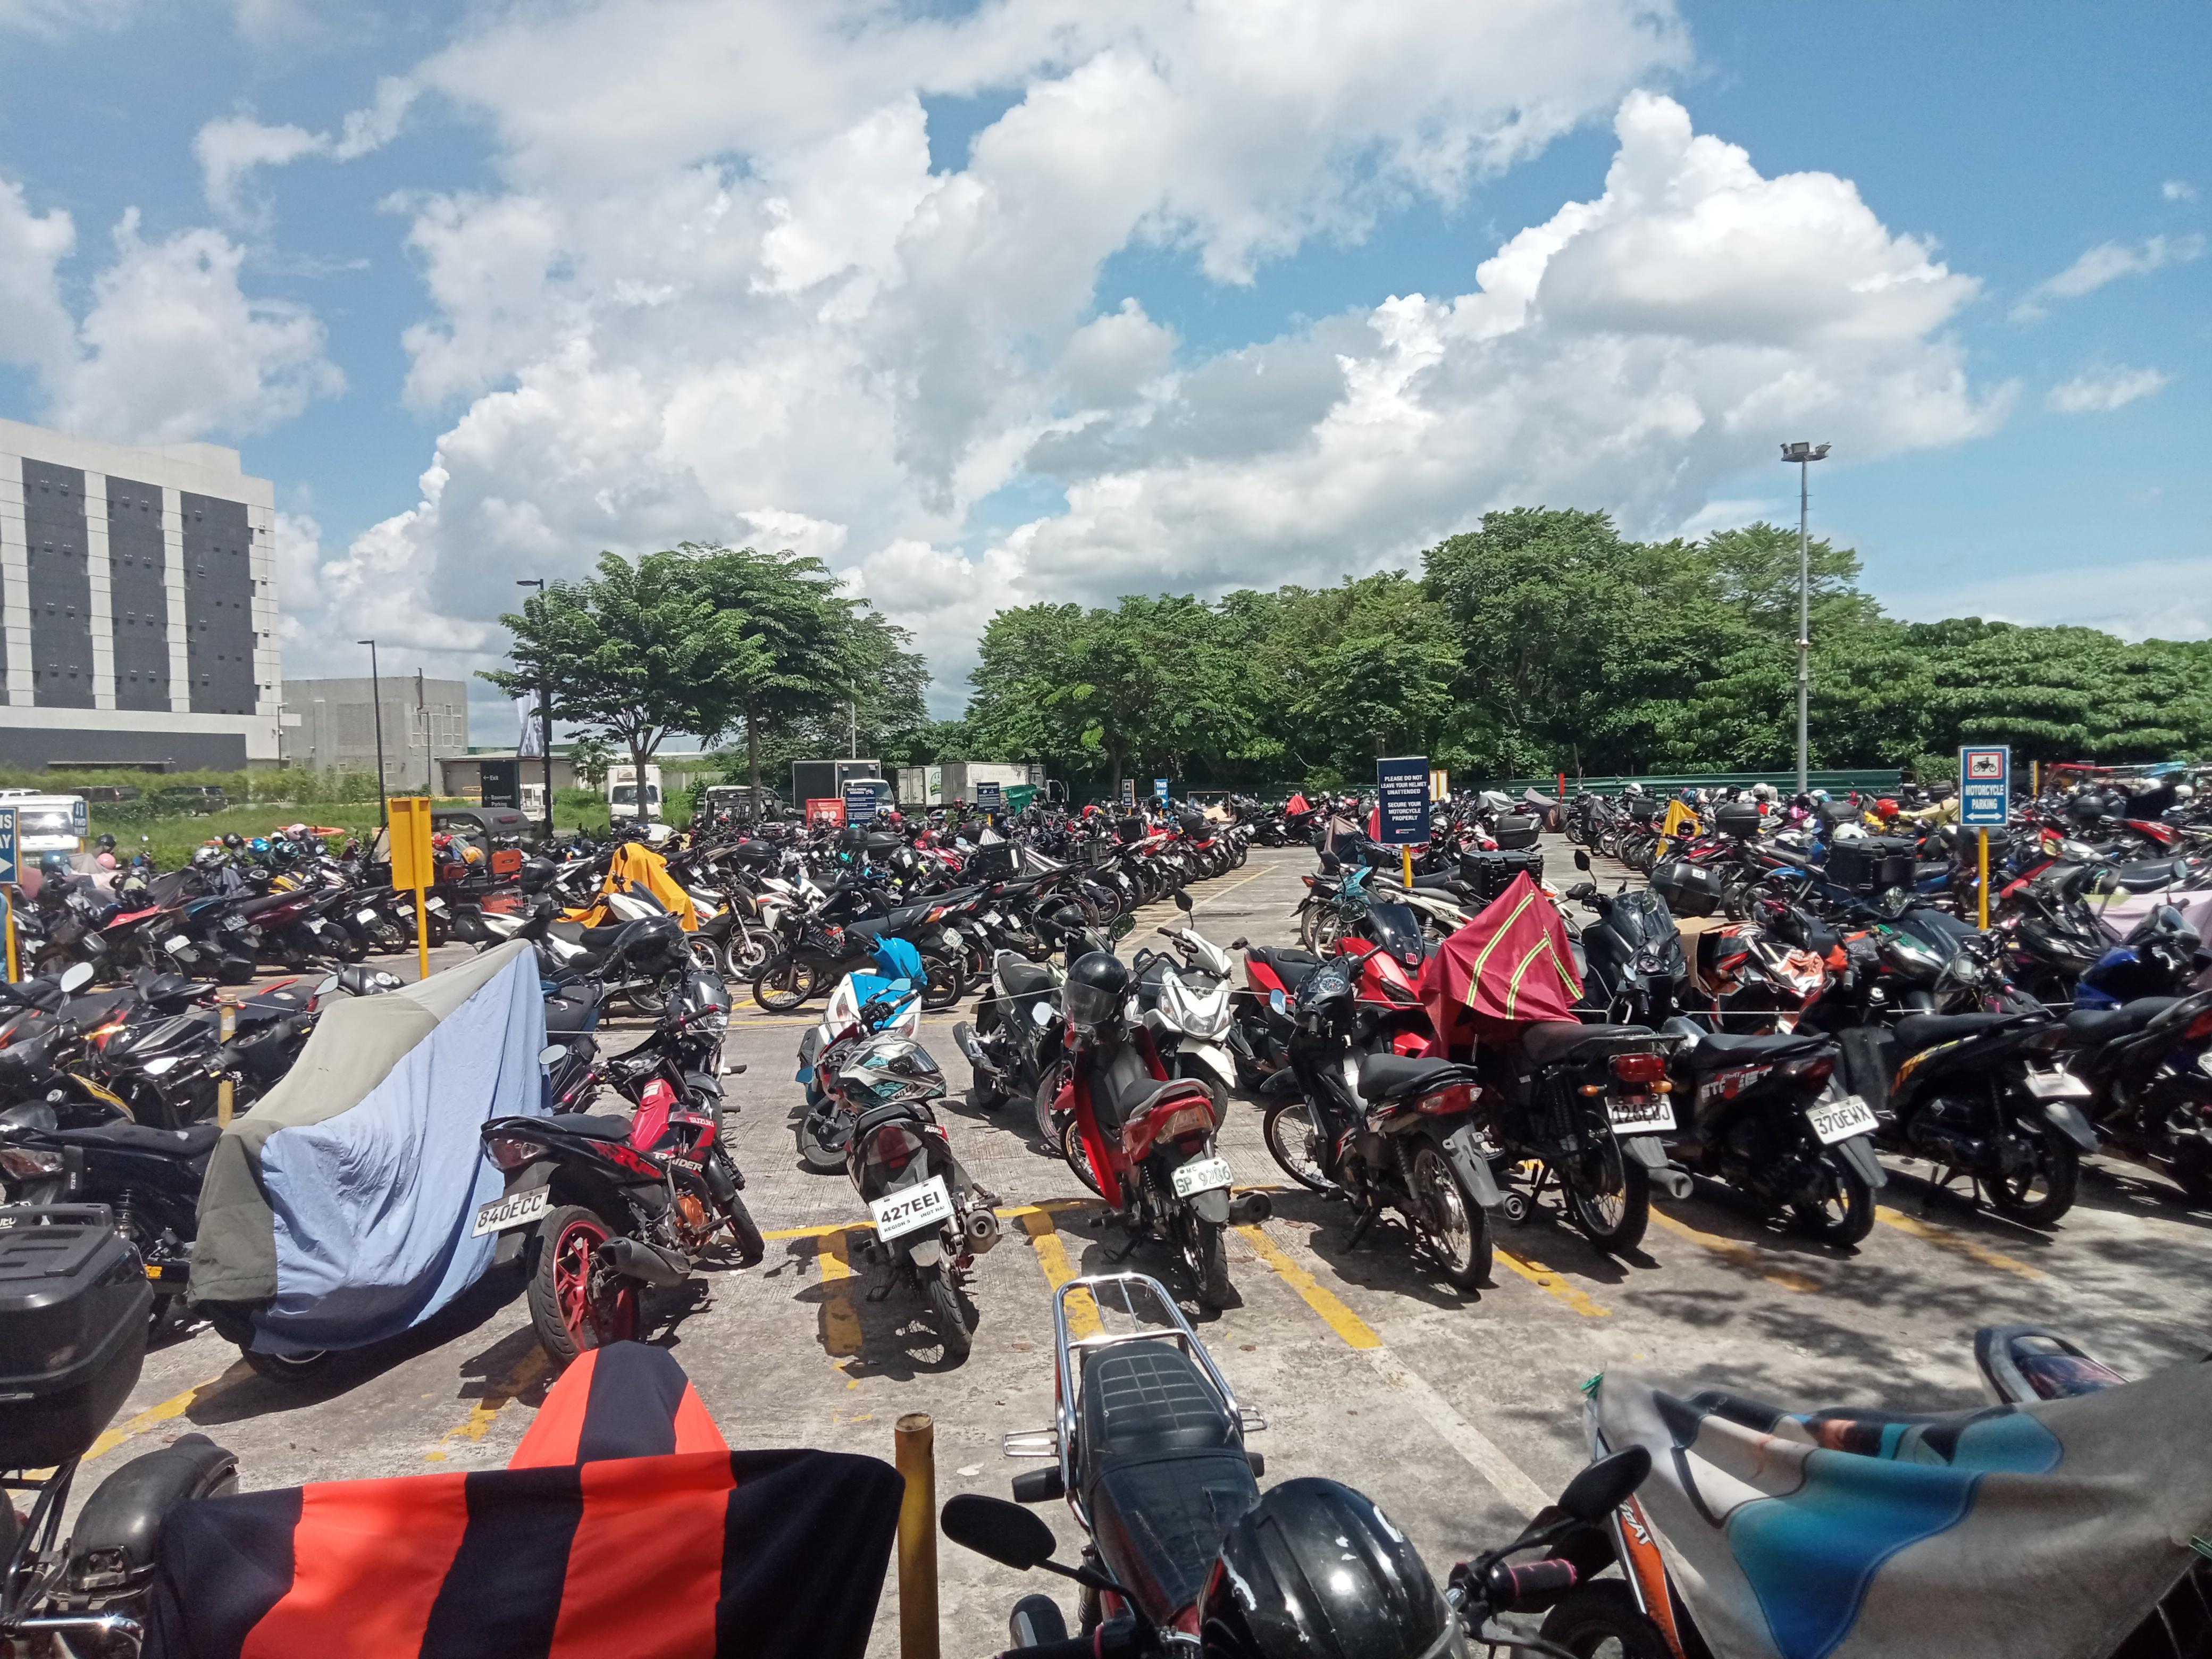occupied: (425, 1225, 883, 1464), (1367, 1136, 1831, 1323), (1202, 1168, 1622, 1354), (1015, 1187, 1395, 1373), (815, 1206, 1132, 1420)
